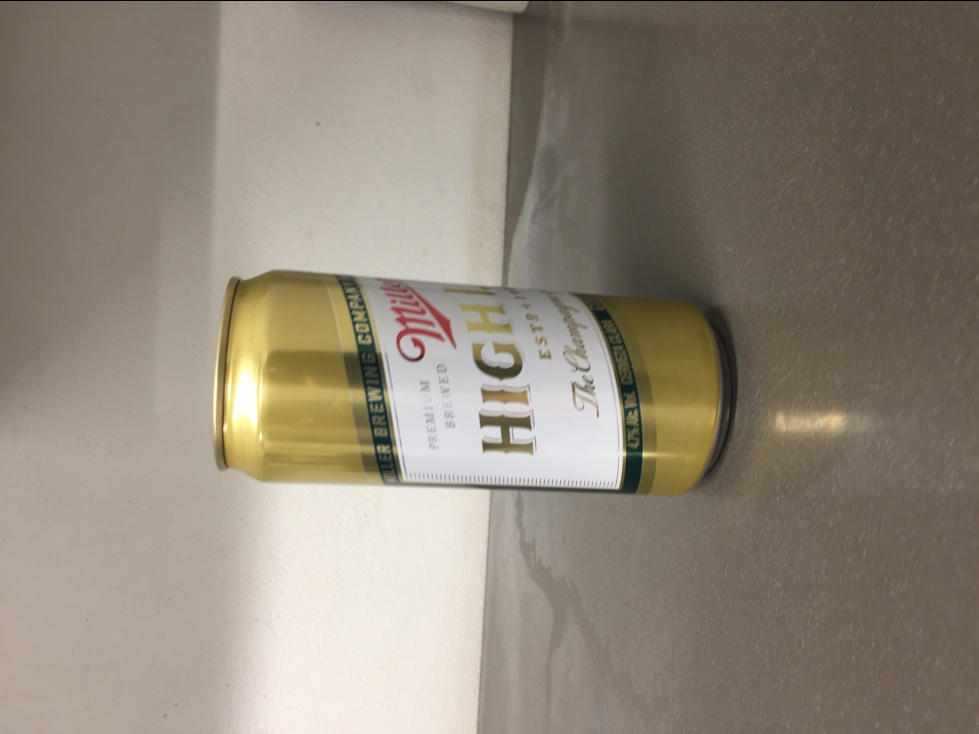miller: (212, 269, 733, 498)
